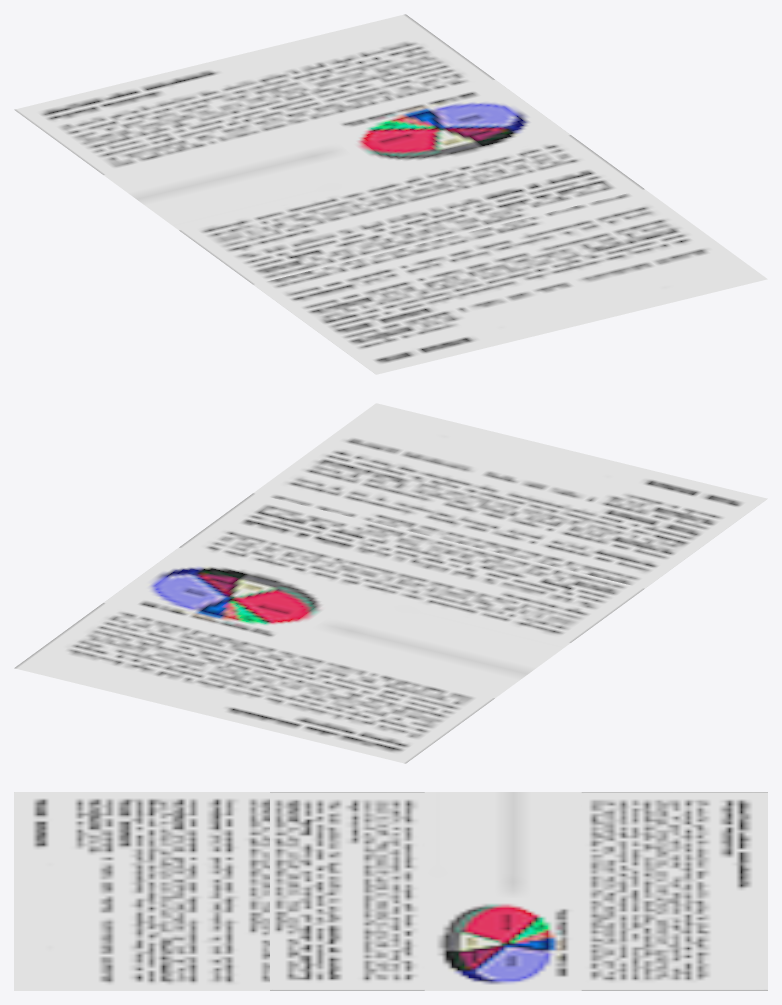
File: document_sheet_2.fbx
The picture shows the model from 3 angles, top to bottom: view 1: azimuth 30°, elevation 25°; view 2: azimuth 150°, elevation 25°; view 3: azimuth 270°, elevation 25°; orthographic projection. The views are drawn at different scales.
Visible parts, largest first — view 1: document_sheet_2; view 2: document_sheet_2; view 3: document_sheet_2.
Part boxes in pixels (left/top/right/bottom): document_sheet_2: left=14, top=14, right=767, bottom=374; document_sheet_2: left=14, top=403, right=767, bottom=763; document_sheet_2: left=14, top=792, right=767, bottom=990.
Size of the model in its own units: 19.27 by 3.61e-15 by 30.87.
